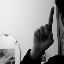d: (32, 7, 55, 50)
